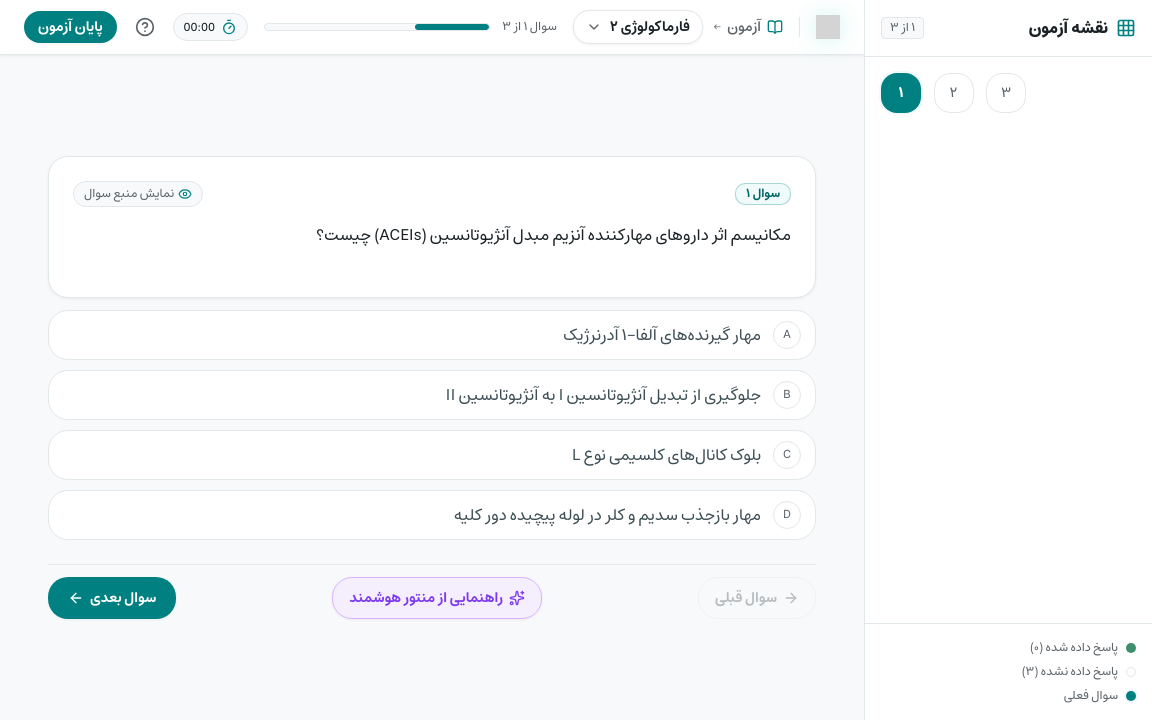
Real Browser & Viewport Layout E2E Verification Suite › 2. Controlled Lesson Disclosure: Hidden by default in DOM, revealed on click, independent per question
Check: the text "جلسه ۱: مبانی فیزیولوژیک" is not shown
Check: the text "نمایش منبع سوال" is shown, box [84,186,174,202]
Note: Click "نمایش منبع سوال" for Question 1
Click the button "نمایش منبع سوال" at (138, 194), box [73,181,203,207]
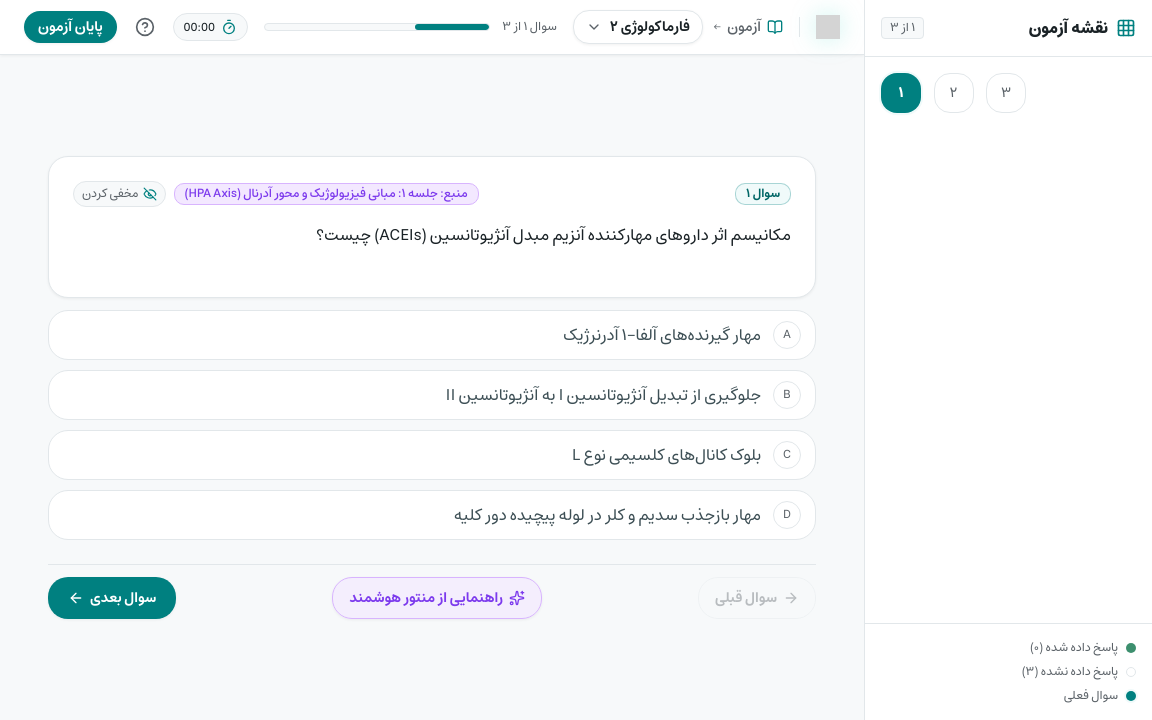
Check: the text "منبع: جلسه ۱: مبانی فیزیولوژیک و محور آدرنال (HPA Axis)" is shown, box [174,183,479,205]
Check: the text "مخفی کردن" is shown, box [82,186,138,202]
Note: Advance to Question 2
Click the button "سوال بعدی" at (112, 598), box [48,577,176,619]
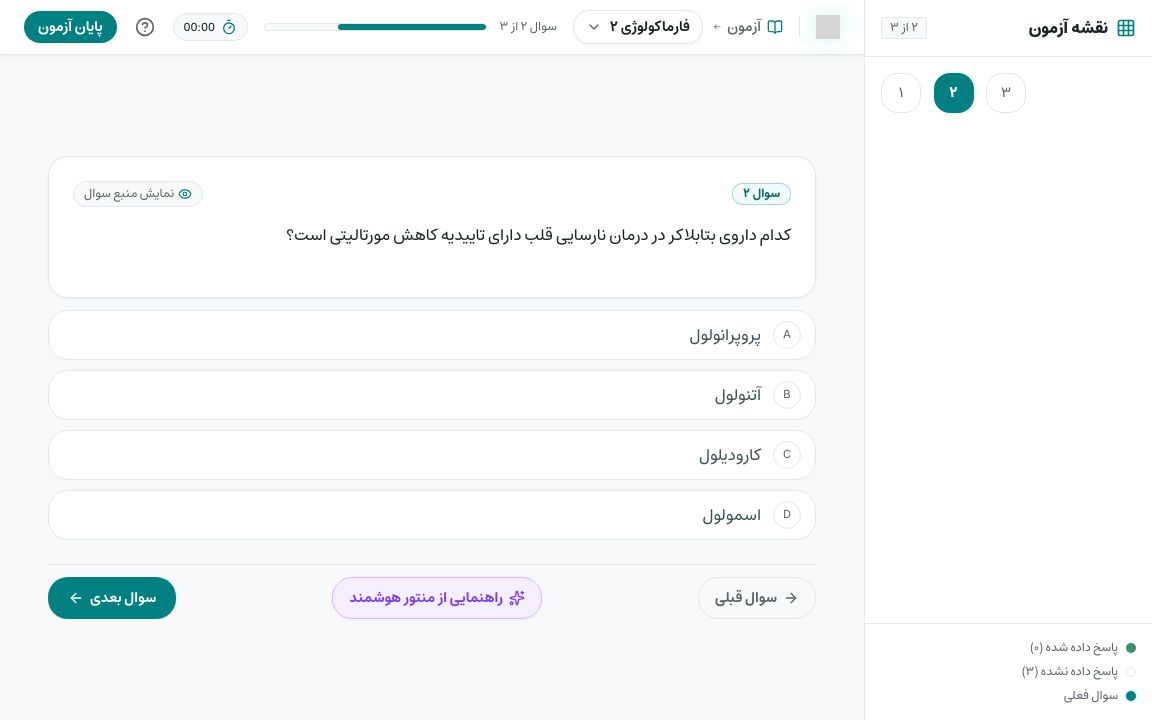
Check: the text "نمایش منبع سوال" is shown, box [84,186,174,202]
Click the button "سوال قبلی" at (757, 598), box [698,577,816,619]
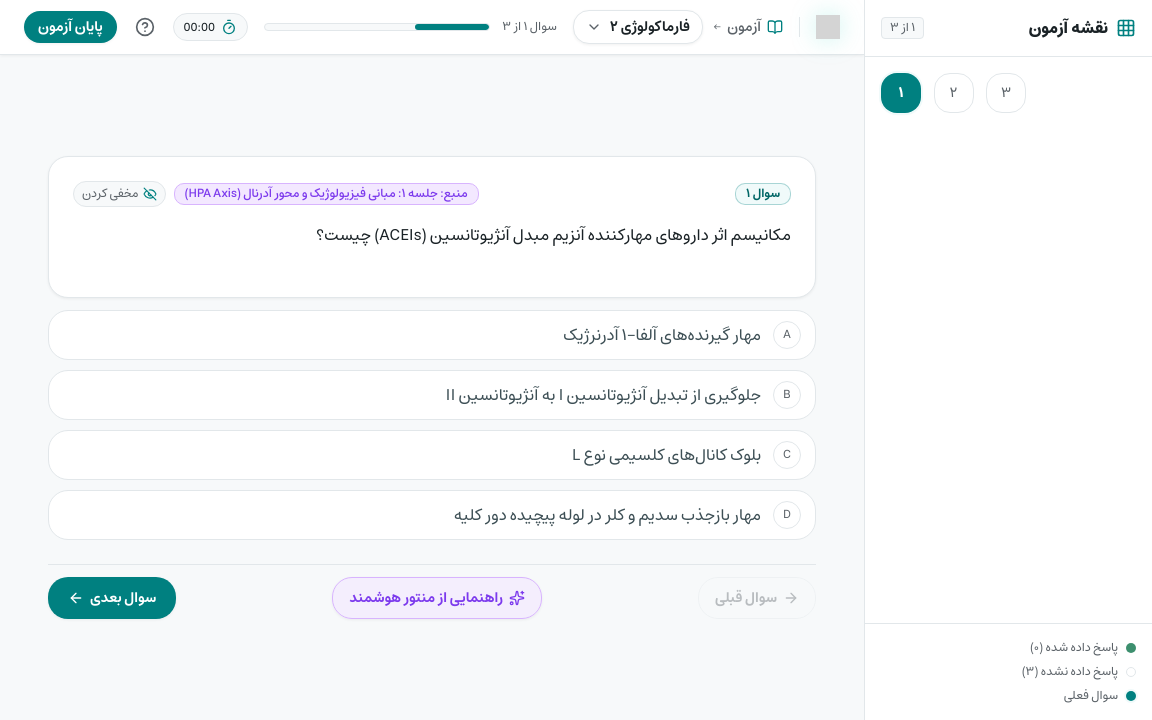
Check: the text "منبع: جلسه ۱: مبانی فیزیولوژیک و محور آدرنال (HPA Axis)" is shown, box [174,183,479,205]
Click the button "مخفی کردن" at (119, 194), box [73,181,166,207]
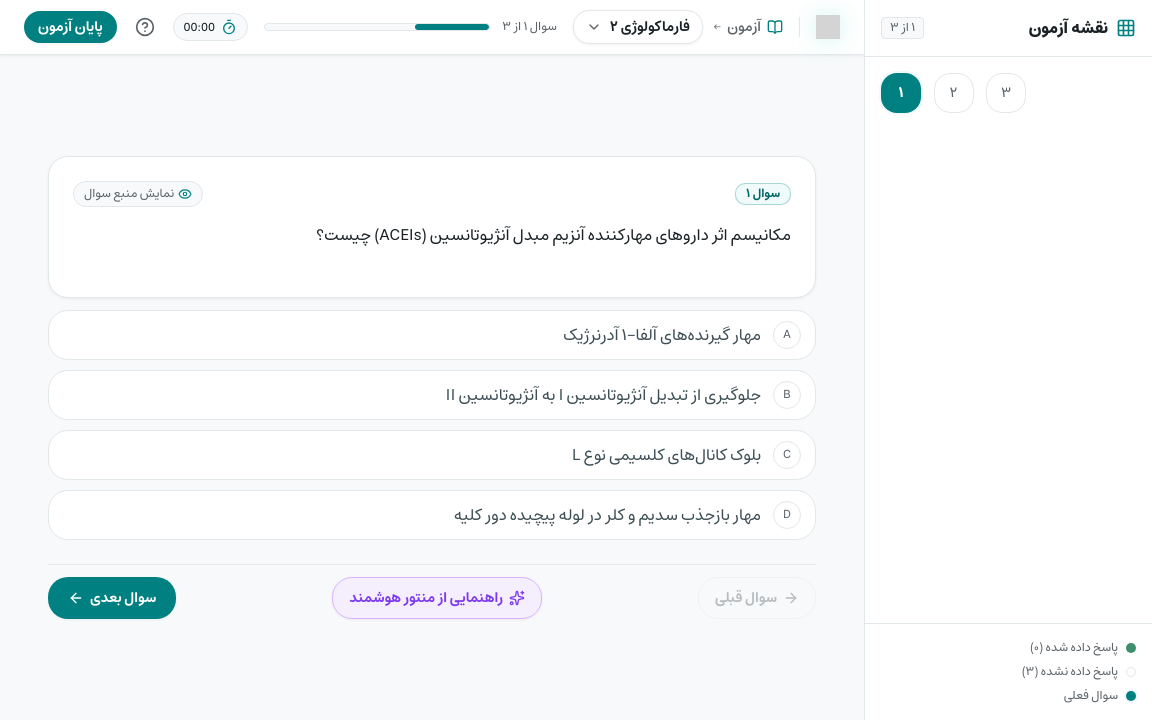
Check: the text "جلسه ۱: مبانی فیزیولوژیک" is gone
Check: the text "نمایش منبع سوال" is shown, box [84,186,174,202]
